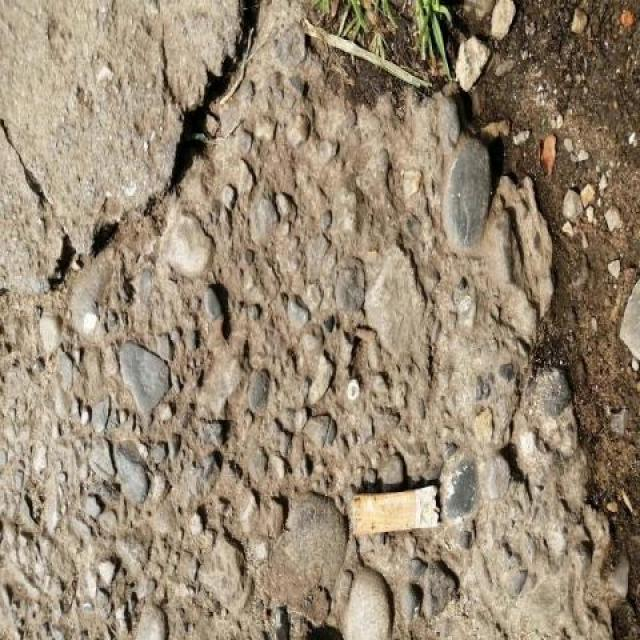non-organic waste: (346, 476, 445, 540)
